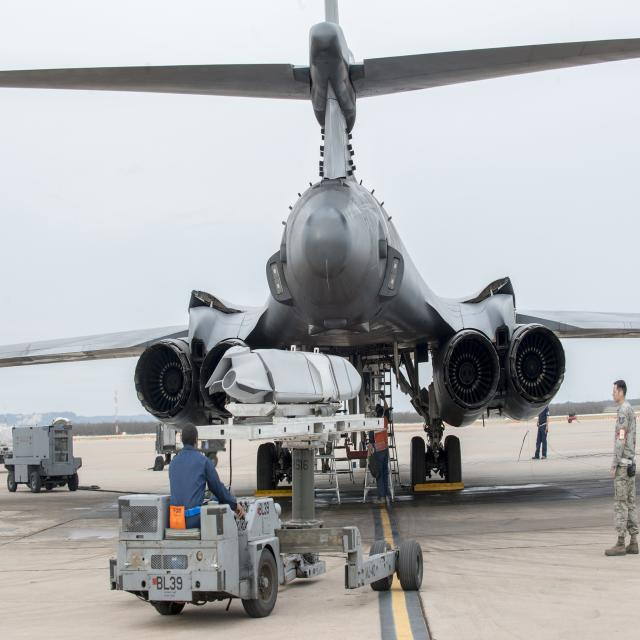MIL_Plane: (0, 0, 640, 492)
